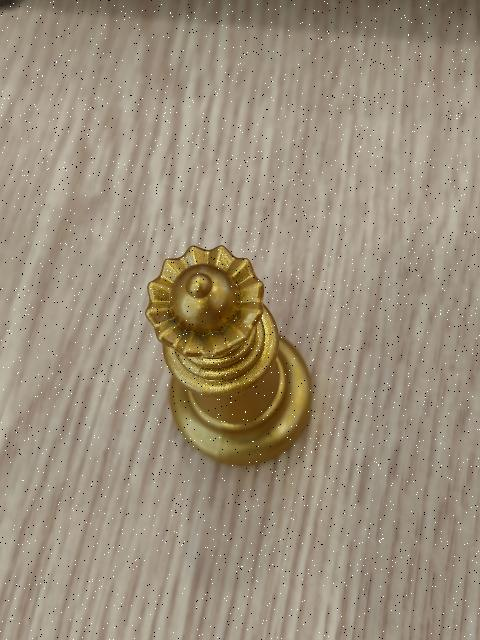black_queen: (144, 242, 313, 468)
